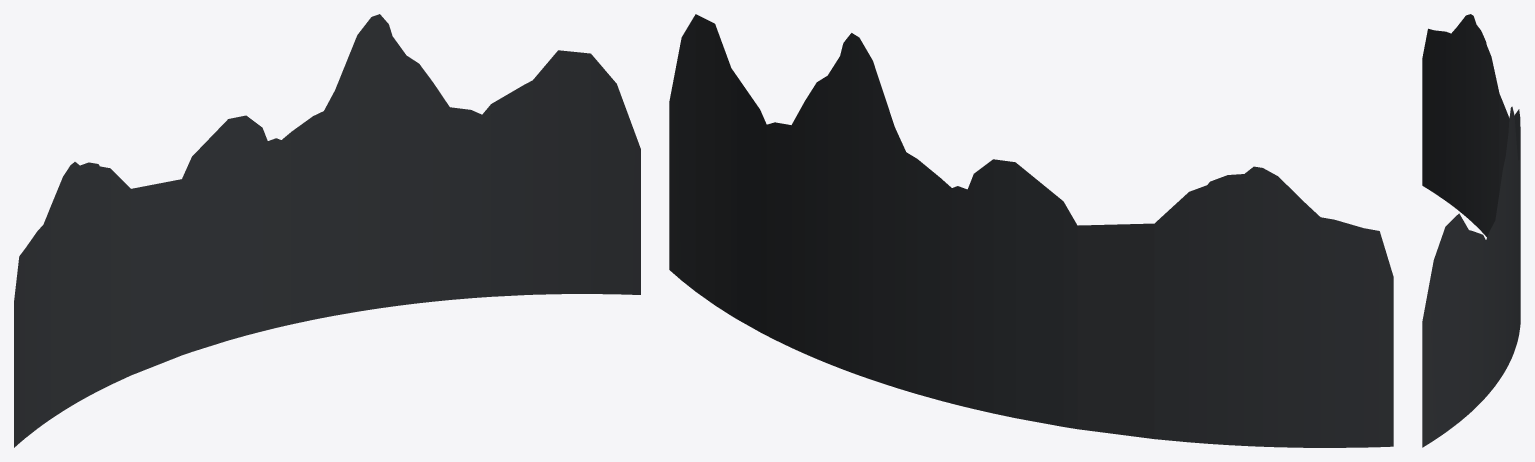
Rendered from bg-range-b.glb.
3 renders of one model, left to right at view 1: azimuth 30°, elevation 25°; view 2: azimuth 150°, elevation 25°; view 3: azimuth 270°, elevation 25°, orthographic. The views are drawn at different scales.
Parts seen in each view (by area): view 1: SM_Gen_Env_Background_Mountain_02; view 2: SM_Gen_Env_Background_Mountain_02; view 3: SM_Gen_Env_Background_Mountain_02.
Part boxes in pixels (x1,y1,x2,y2): SM_Gen_Env_Background_Mountain_02: [14, 14, 640, 447]; SM_Gen_Env_Background_Mountain_02: [669, 14, 1393, 447]; SM_Gen_Env_Background_Mountain_02: [1422, 14, 1520, 447].
Size of the model in its own units: 103 by 46.05 by 16.3.
Materials: 1 (1 with a texture image).
